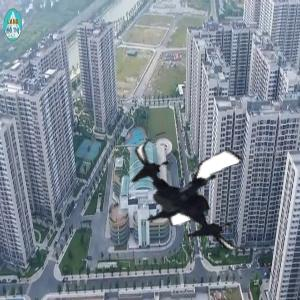drone: (123, 126, 262, 265)
